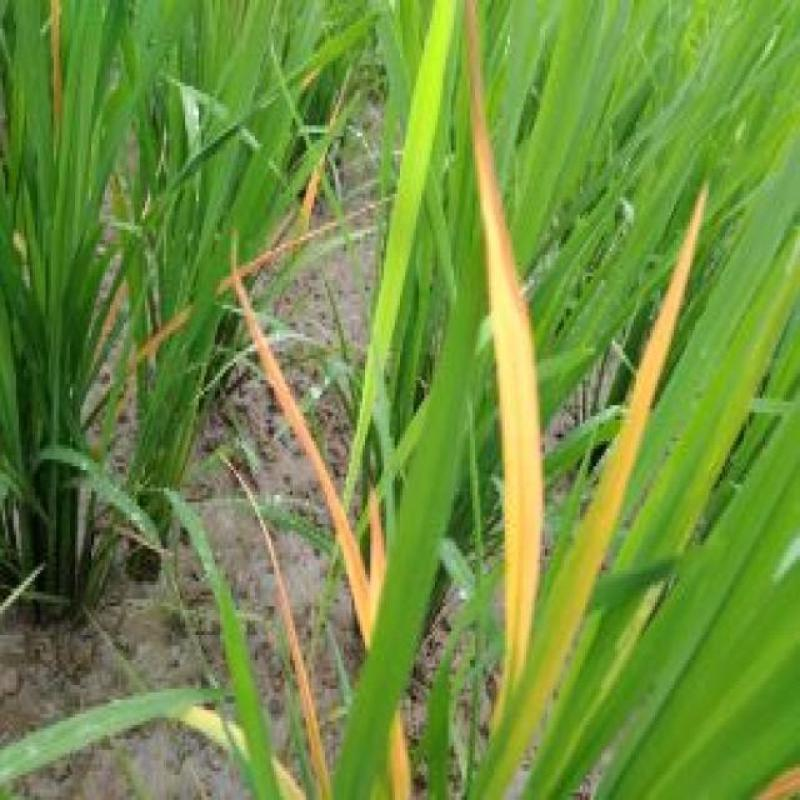Rice Tungro: (462, 8, 544, 614)
